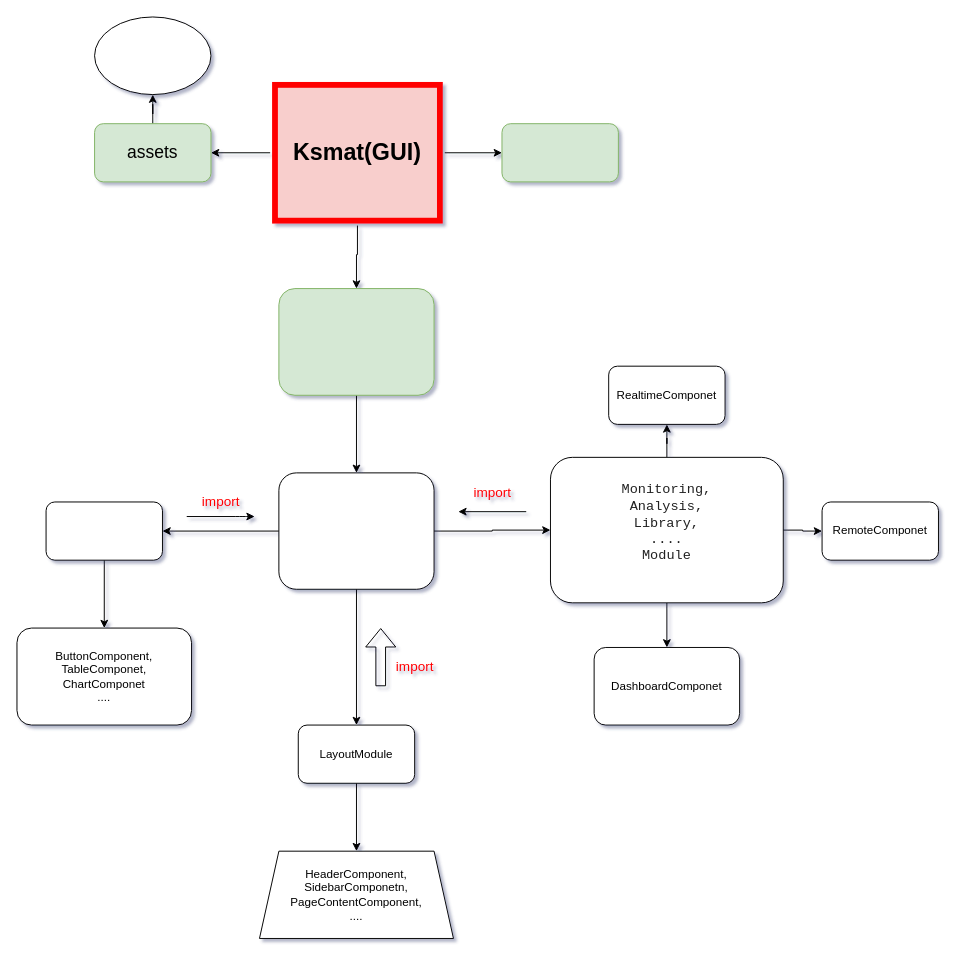
The diagram is 961 pixels wide and 961 high, and some of its shapes have lost their labels. Here are the shapes that lost their labels. From the top down, the box of each, then its label:
(94, 16, 211, 95): iamges, js, ,language ,fonts ....
(501, 123, 618, 182): scss
(278, 288, 434, 395): AppModule
(45, 501, 162, 560): CoreModule
(278, 472, 434, 589): Component (AppComponent)
